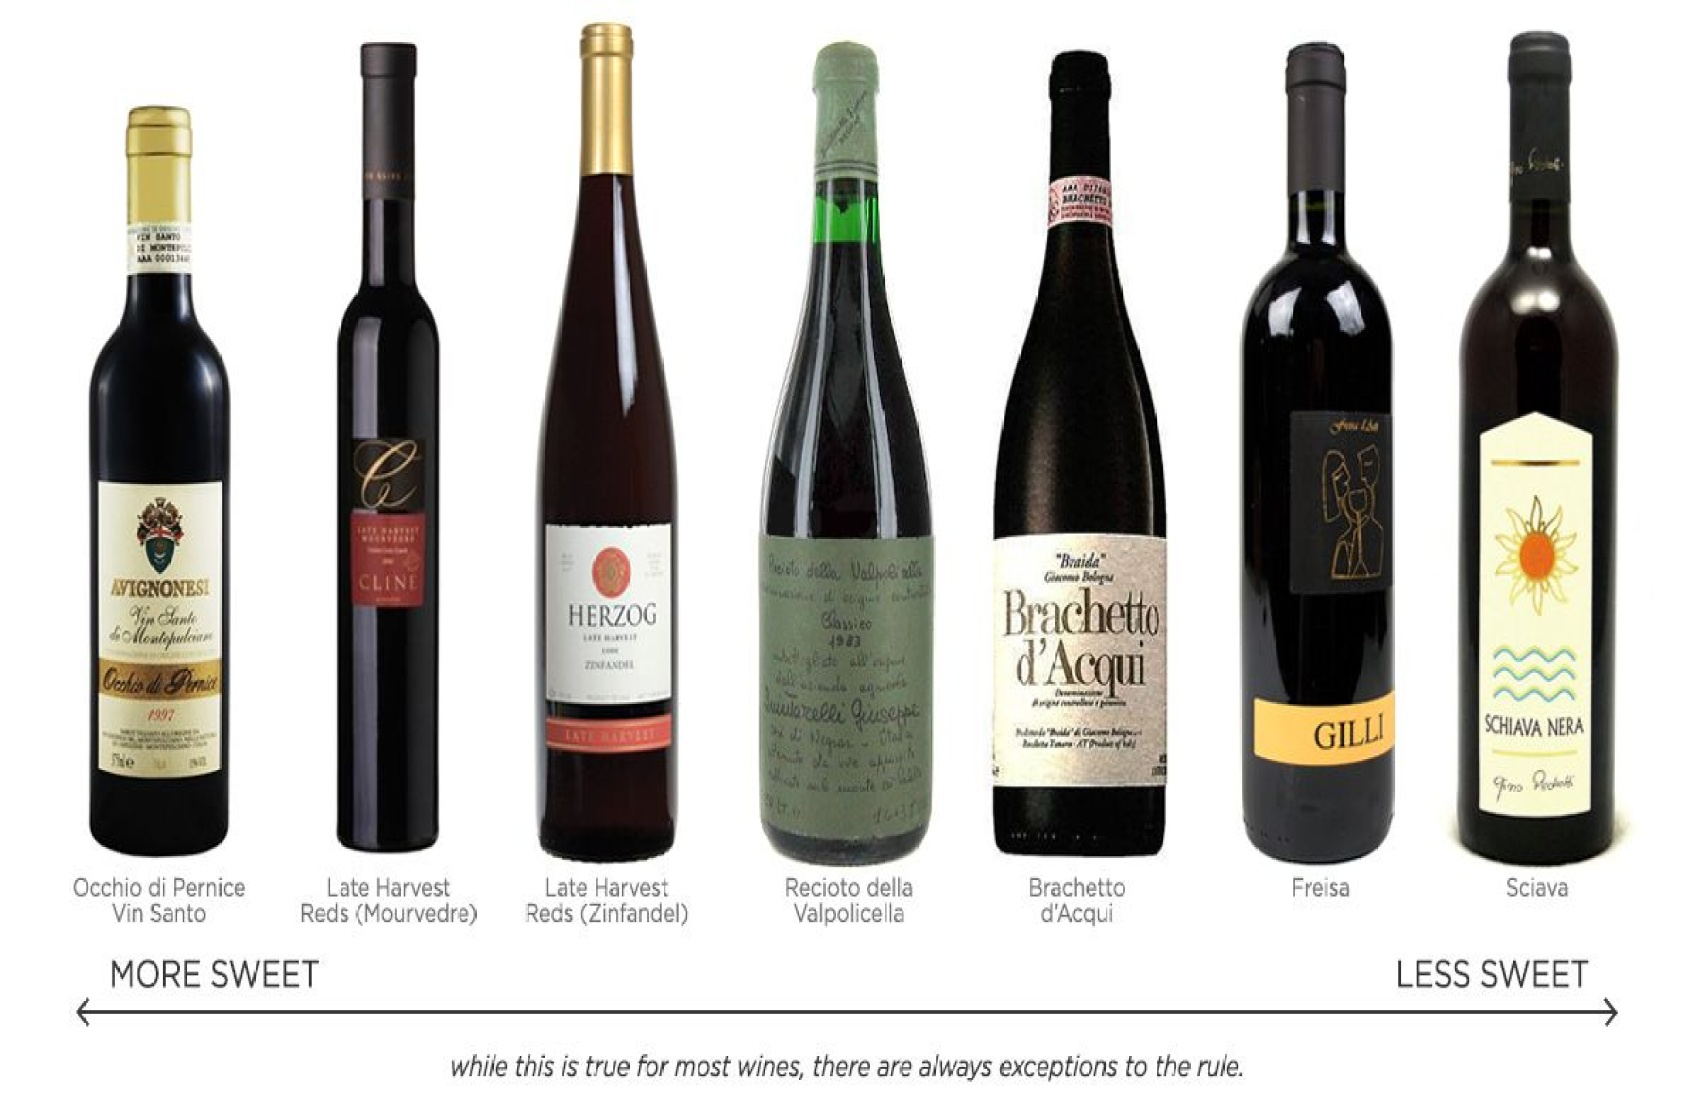wine: (761, 4, 923, 860), (1002, 11, 1163, 867), (539, 10, 680, 856), (1248, 27, 1389, 872), (1463, 27, 1605, 872), (94, 26, 235, 871), (328, 28, 446, 842)
